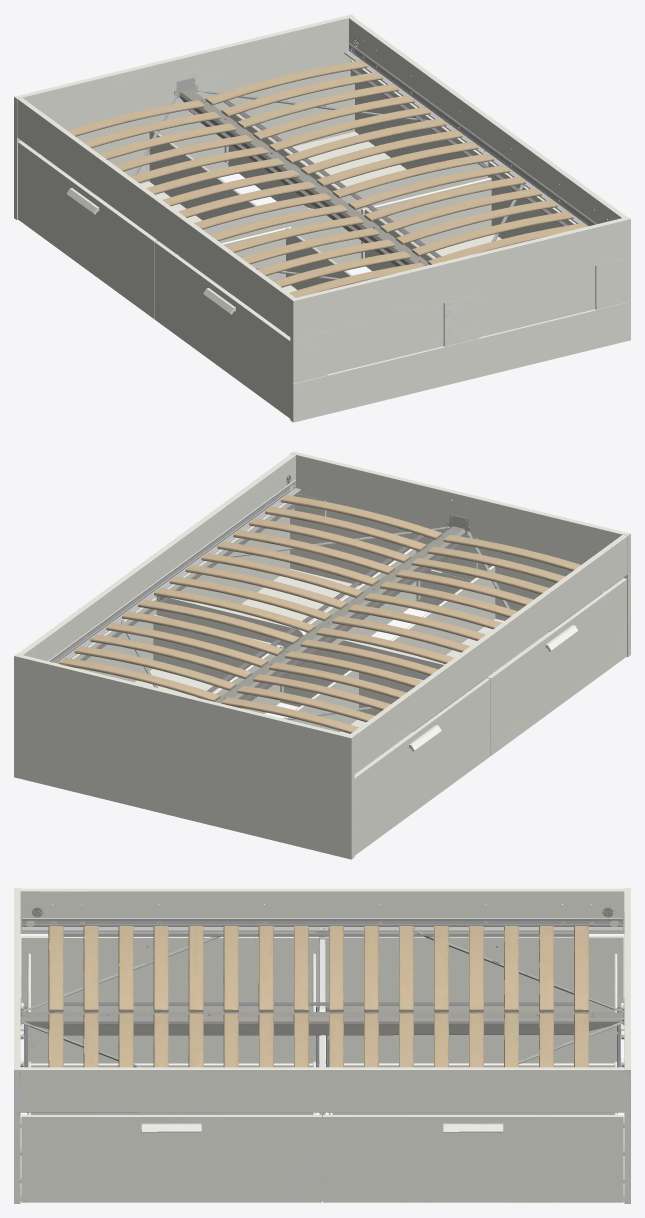
3 views of the same model, one above another, from view 1: azimuth 30°, elevation 25°; view 2: azimuth 150°, elevation 25°; view 3: azimuth 270°, elevation 25° (orthographic). The views are drawn at different scales.
Visible parts, largest first — view 1: Mesh_0; view 2: Mesh_0; view 3: Mesh_0.
Part boxes in pixels (left/top/right/bottom): Mesh_0: left=14, top=14, right=630, bottom=422; Mesh_0: left=14, top=451, right=630, bottom=859; Mesh_0: left=14, top=888, right=630, bottom=1203.
Size of the model in its own units: 1.41 by 0.4699 by 1.96.
1 material, 1 textured.
